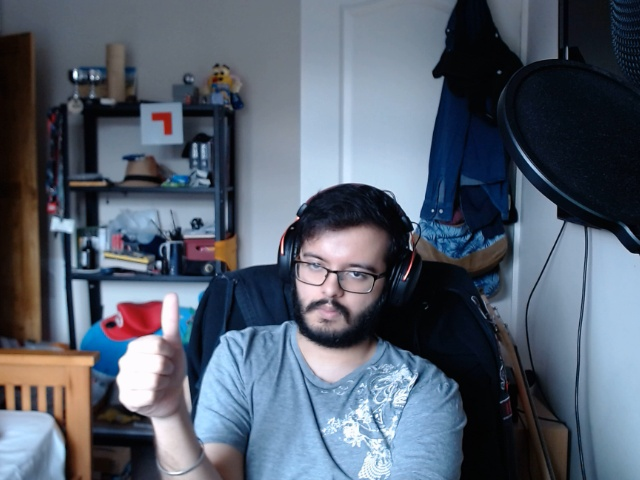Thumbs up: (111, 283, 195, 432)
